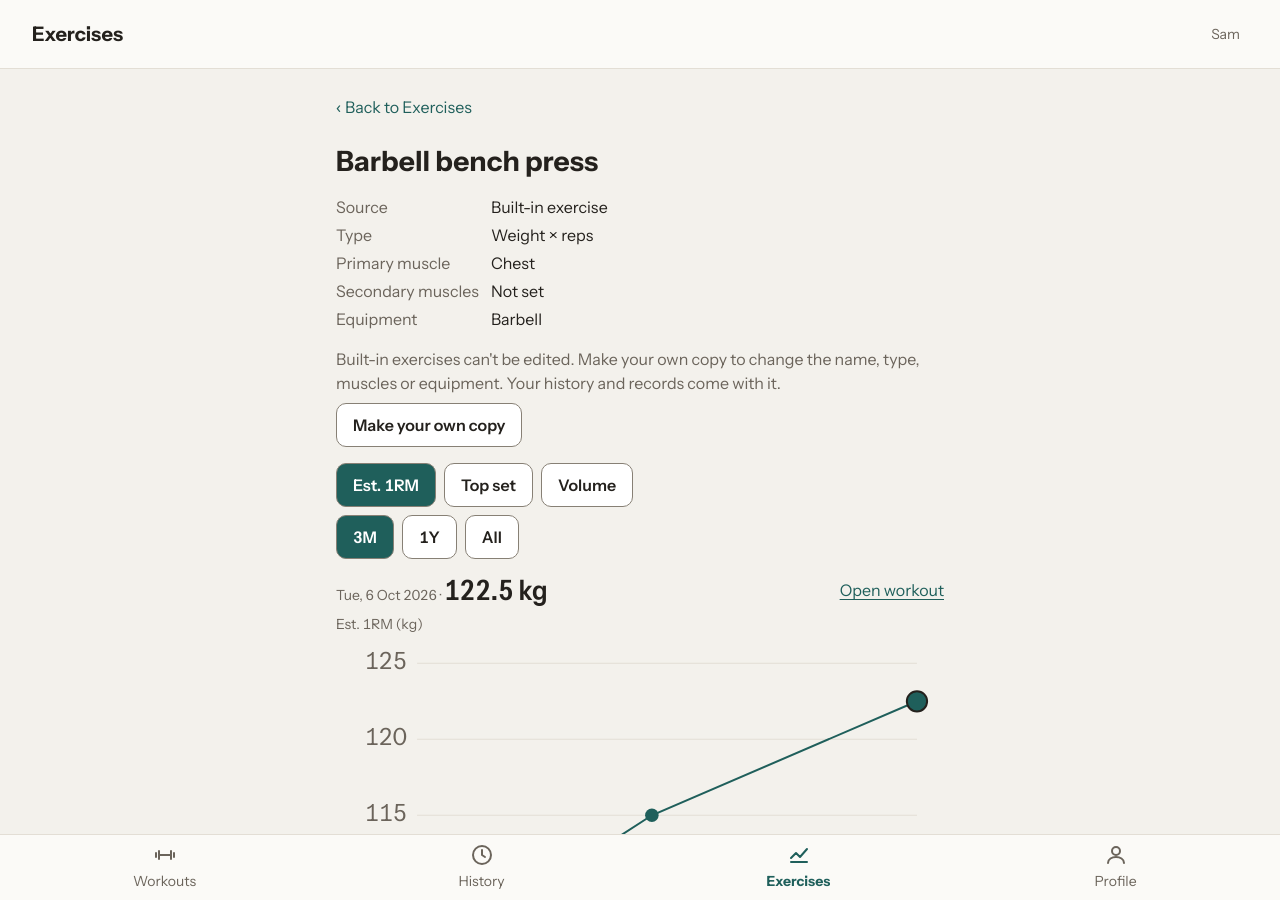
Test: 08.1 AC15 / 18.2 AC23 — the range chips › 3M / 1Y / All send the right from (fixed clock)
The width and height of the screenshot is (1280, 900).
Click the button "1Y": click(429, 537) [402,515,457,559]
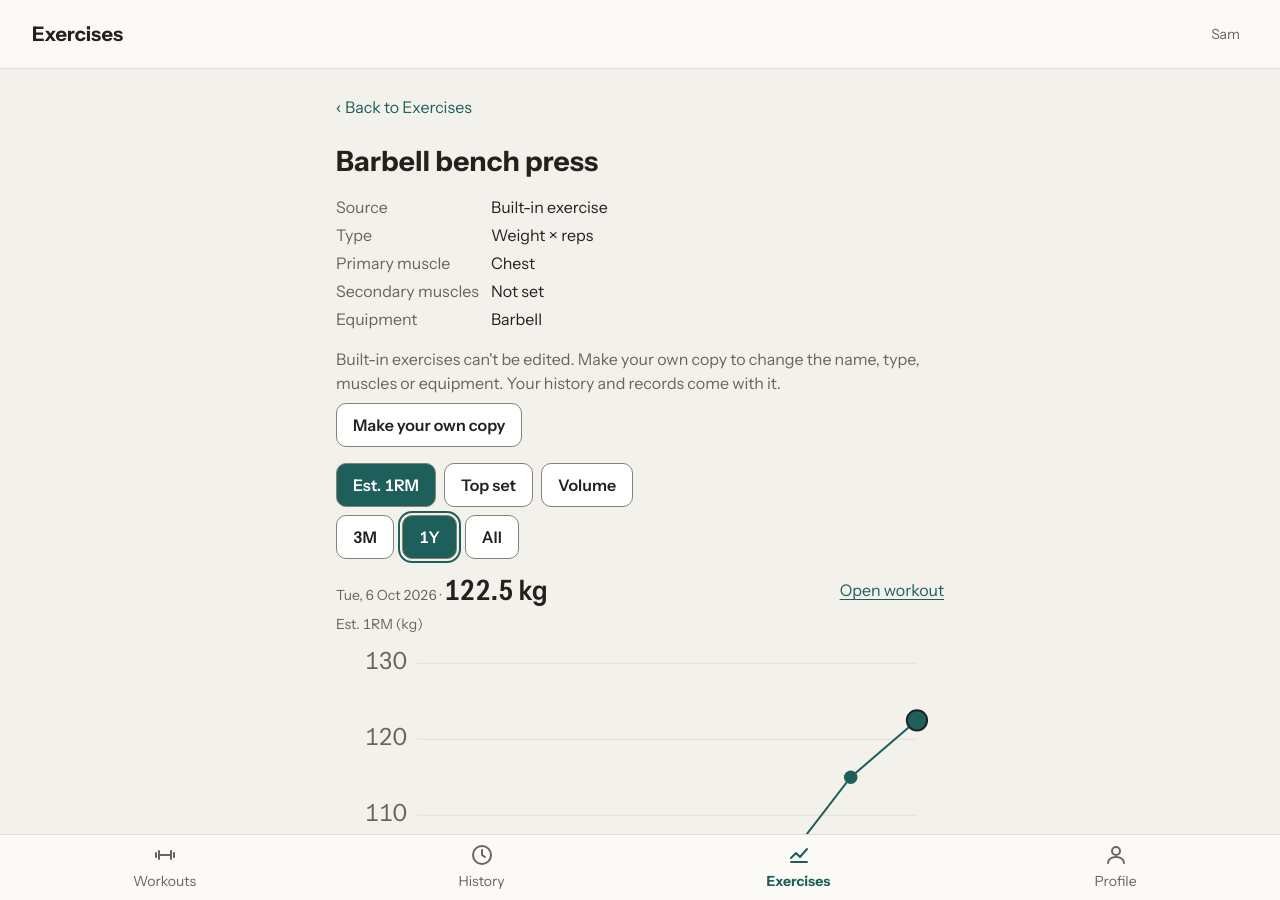
Click the button "All": click(492, 537) [465,515,519,559]
(page scrolled)
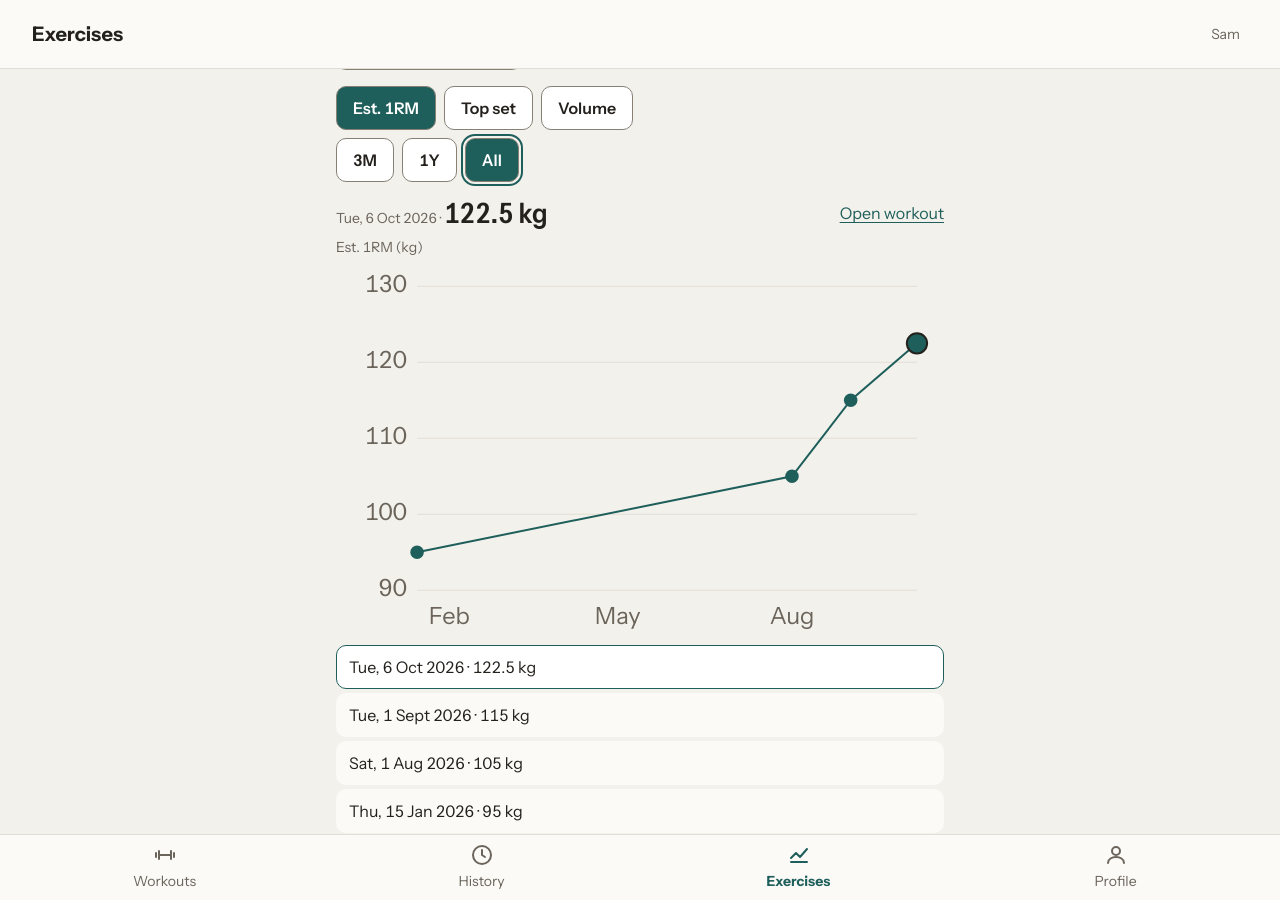
expect the picture named "all time" is shown: met, box [336,266,944,637]
